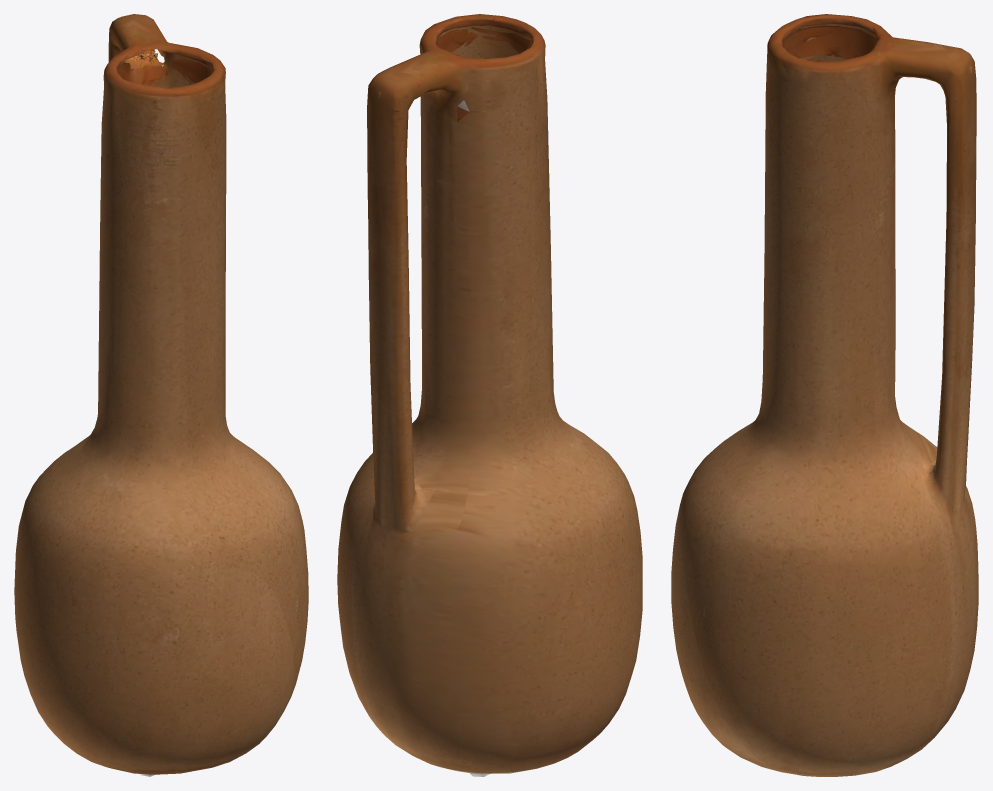
Rendered from Vase_Low-transformed.glb.
The picture shows the model from 3 angles, left to right: view 1: azimuth 30°, elevation 25°; view 2: azimuth 150°, elevation 25°; view 3: azimuth 270°, elevation 25°; orthographic projection. The views are drawn at different scales.
Parts seen in each view (by area): view 1: Vase_Low; view 2: Vase_Low; view 3: Vase_Low.
Boxes of the visible parts, <box> form: Vase_Low: <box>14,14,308,776</box>; Vase_Low: <box>337,14,642,776</box>; Vase_Low: <box>671,14,978,776</box>.
Size of the model in its own units: 0.1845 by 0.4696 by 0.1847.
Materials: 1 (1 with a texture image).
